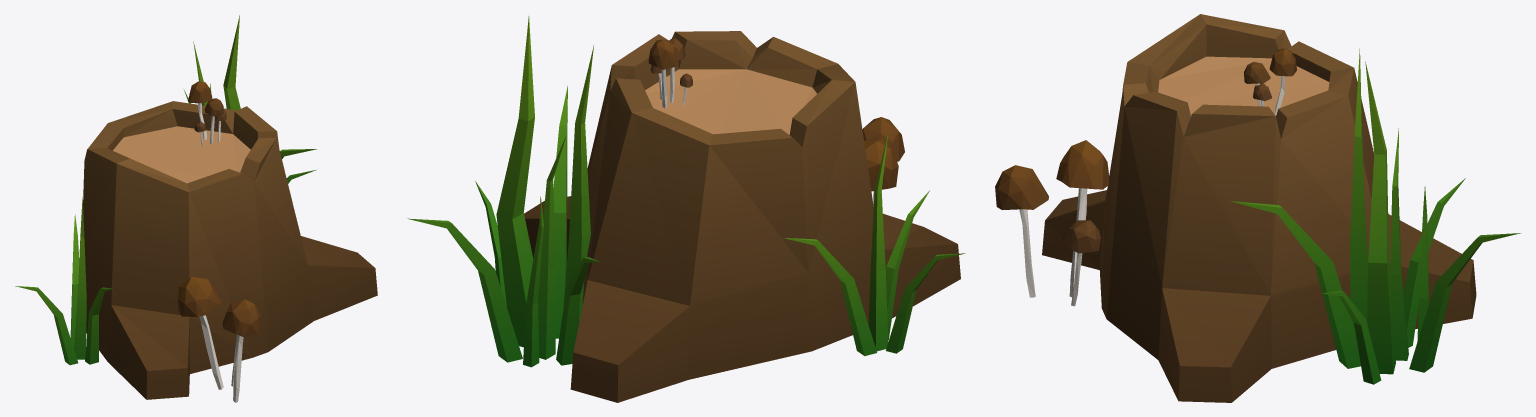
File: Stump_03.fbx
The picture shows the model from 3 angles, left to right: view 1: azimuth 30°, elevation 25°; view 2: azimuth 150°, elevation 25°; view 3: azimuth 270°, elevation 25°; orthographic projection. The views are drawn at different scales.
Parts seen in each view (by area): view 1: Stump_03; view 2: Stump_03; view 3: Stump_03.
Boxes of the visible parts, box(x1,y1,x2,y2) form: Stump_03: box(15, 15, 377, 402); Stump_03: box(407, 16, 965, 402); Stump_03: box(995, 14, 1520, 402).
Size of the model in its own units: 89.36 by 62.76 by 93.35.
